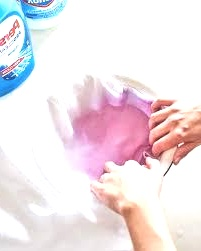wine: (73, 106, 152, 180)
